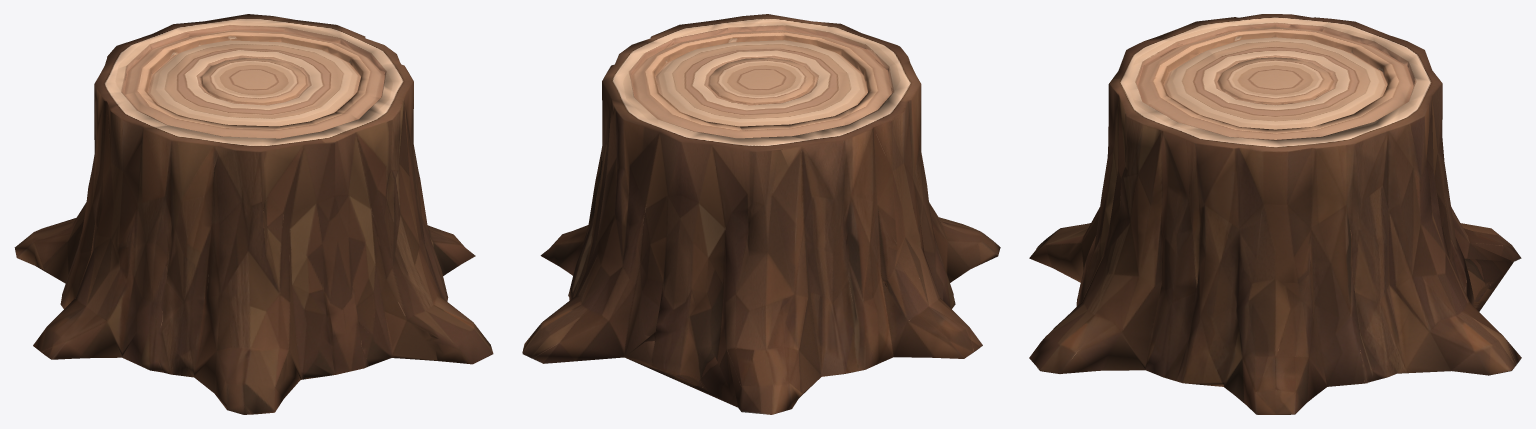
Rendered from Meshy_AI_Low_Poly_Tree_Stump_0810131232_texture.glb.
The picture shows the model from 3 angles, left to right: view 1: azimuth 30°, elevation 25°; view 2: azimuth 150°, elevation 25°; view 3: azimuth 270°, elevation 25°; orthographic projection. The views are drawn at different scales.
Visible parts, largest first — view 1: Mesh1.0; view 2: Mesh1.0; view 3: Mesh1.0.
Boxes of the visible parts, bbox=[...] form: Mesh1.0: bbox=[14, 14, 493, 414]; Mesh1.0: bbox=[522, 14, 1000, 414]; Mesh1.0: bbox=[1029, 14, 1521, 414].
Bounding box in the file's own units: 1.9 × 0.9506 × 1.85.
Materials: 1 (1 with a texture image).
